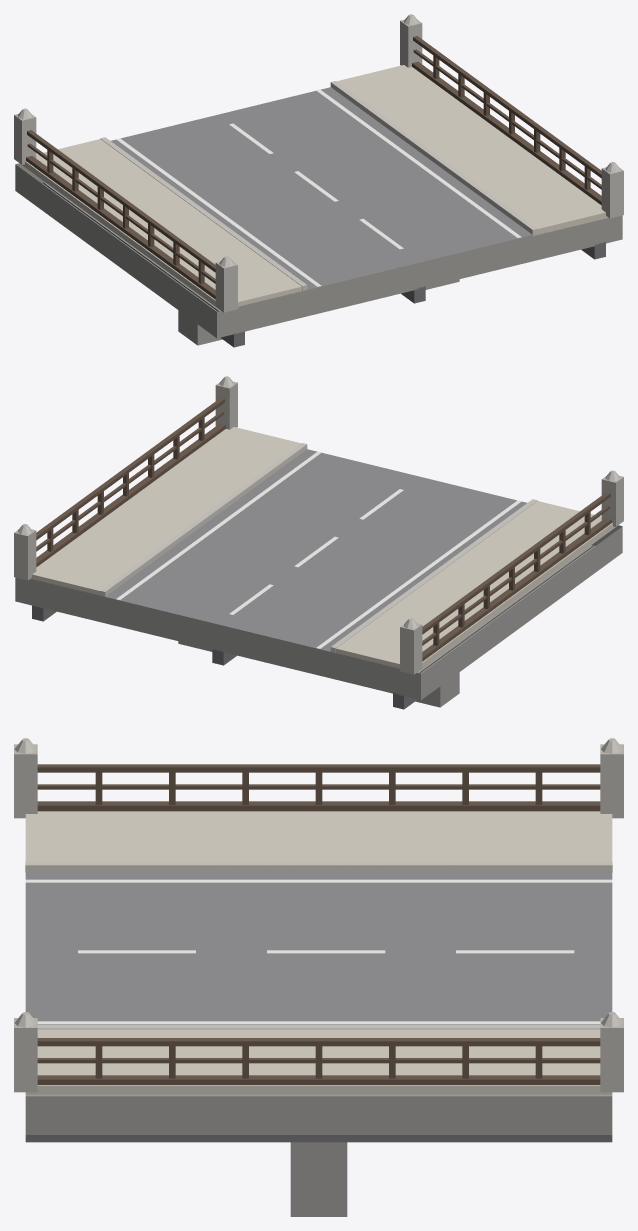
The model's file is HK_Kyobashi.glb.
The picture shows the model from 3 angles, top to bottom: view 1: azimuth 30°, elevation 25°; view 2: azimuth 150°, elevation 25°; view 3: azimuth 270°, elevation 25°; orthographic projection. The views are drawn at different scales.
Parts seen in each view (by area): view 1: HK_Kyobashi; view 2: HK_Kyobashi; view 3: HK_Kyobashi.
Boxes of the visible parts, bbox=[...] form: HK_Kyobashi: bbox=[14, 14, 623, 347]; HK_Kyobashi: bbox=[14, 376, 623, 709]; HK_Kyobashi: bbox=[14, 738, 623, 1216].
Size of the model in its own units: 14.4 by 5.77 by 12.9.
